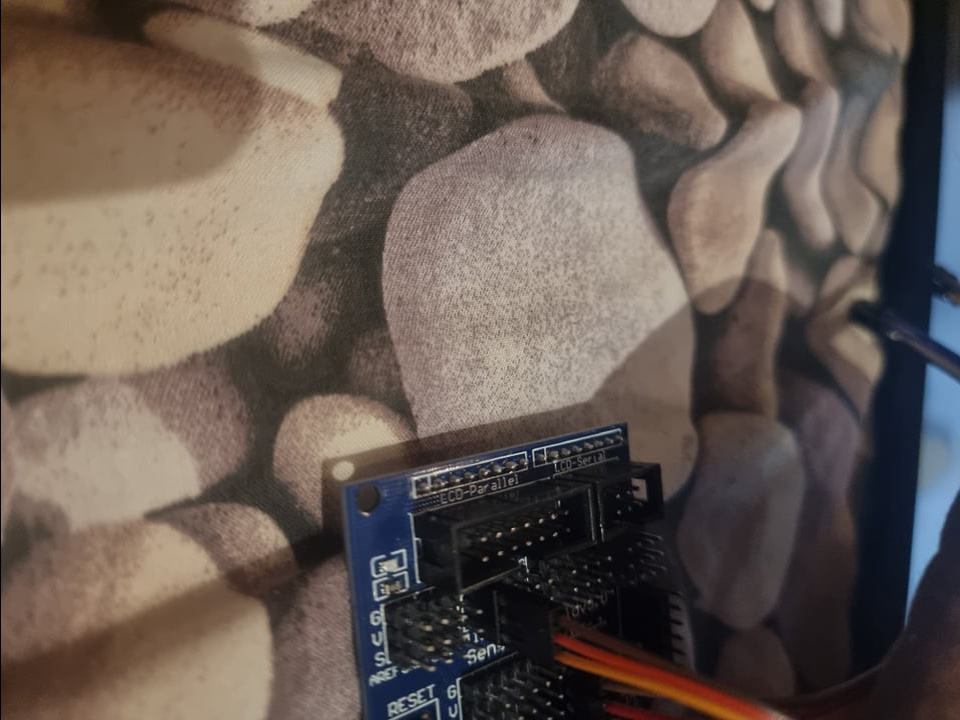5V EXPANSION: (338, 425, 685, 720)
